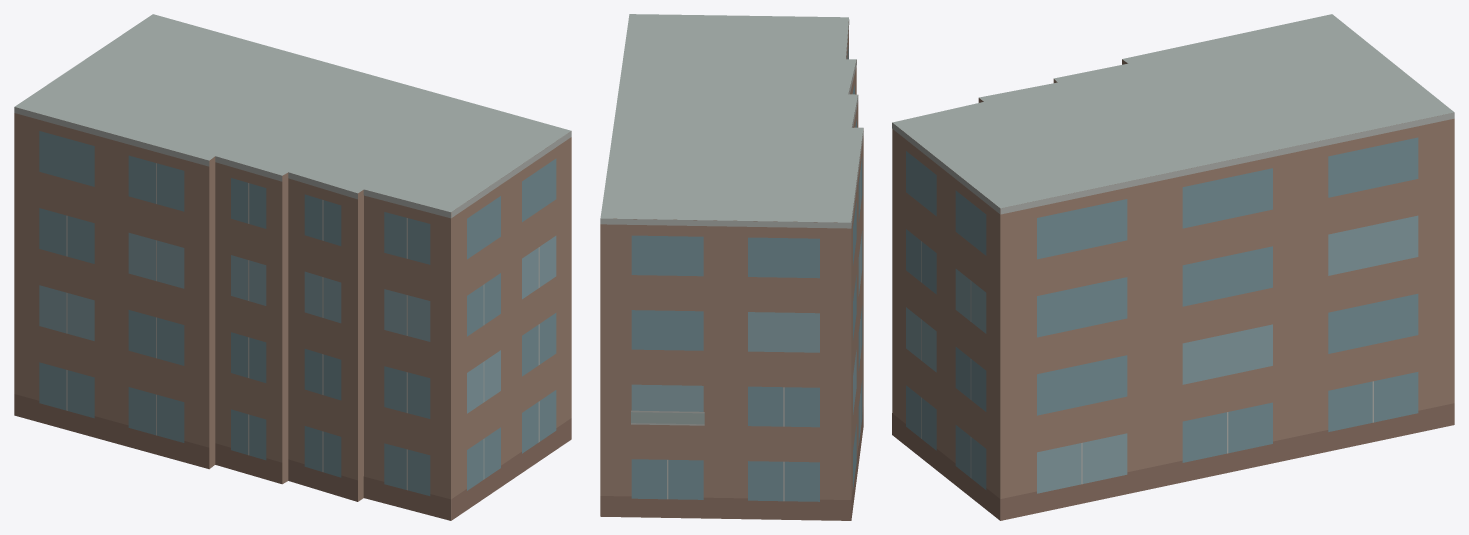
Rendered from survey-upis-32696490.glb.
The picture shows the model from 3 angles, left to right: view 1: azimuth 30°, elevation 25°; view 2: azimuth 150°, elevation 25°; view 3: azimuth 270°, elevation 25°; orthographic projection. The views are drawn at different scales.
Parts seen in each view (by area): view 1: survey-upis-32696490.tmp; view 2: survey-upis-32696490.tmp; view 3: survey-upis-32696490.tmp.
Boxes of the visible parts, left/top/right/bottom form: survey-upis-32696490.tmp: left=14, top=14, right=571, bottom=520; survey-upis-32696490.tmp: left=600, top=14, right=863, bottom=520; survey-upis-32696490.tmp: left=892, top=14, right=1454, bottom=520.
Size of the model in its own units: 16.56 by 12.4 by 20.24.
